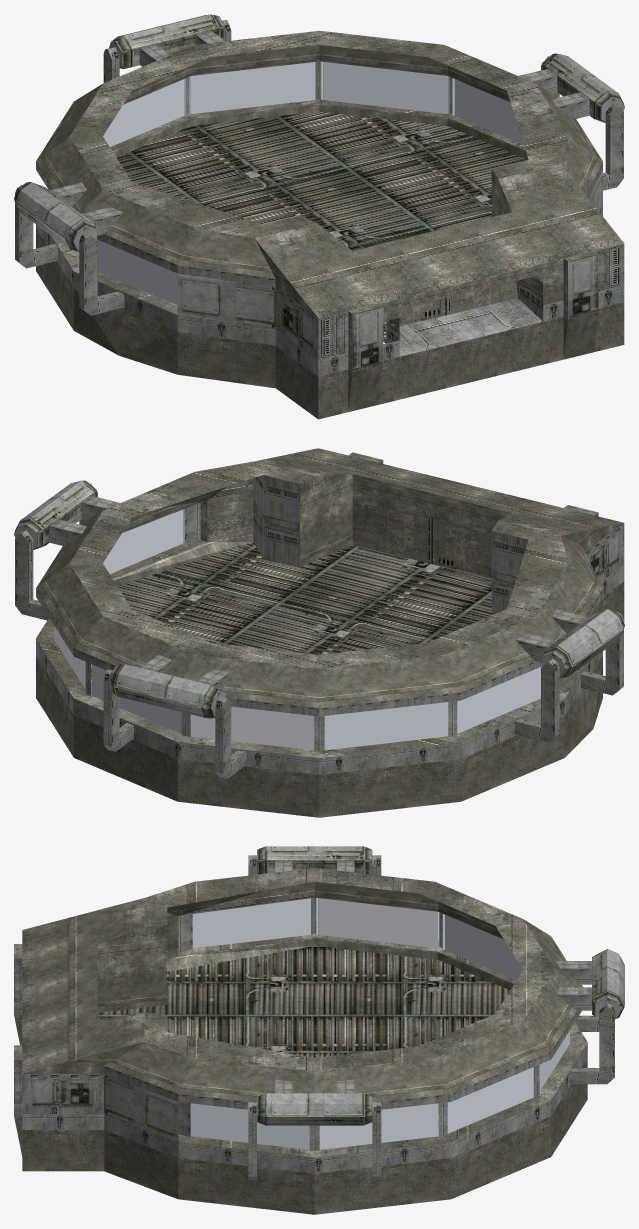
Rendered from ins_all_craftable_creature_farm_s01_u1_l1.fbx.
3 renders of one model, top to bottom at view 1: azimuth 30°, elevation 25°; view 2: azimuth 150°, elevation 25°; view 3: azimuth 270°, elevation 25°, orthographic. The views are drawn at different scales.
Visible parts, largest first — view 1: mesh_node; view 2: mesh_node; view 3: mesh_node.
Part boxes in pixels (left/top/right/bottom): mesh_node: left=14, top=14, right=624, bottom=419; mesh_node: left=14, top=448, right=624, bottom=817; mesh_node: left=14, top=846, right=624, bottom=1214.
Bounding box in the file's own units: 29.75 × 6.86 × 29.3.
